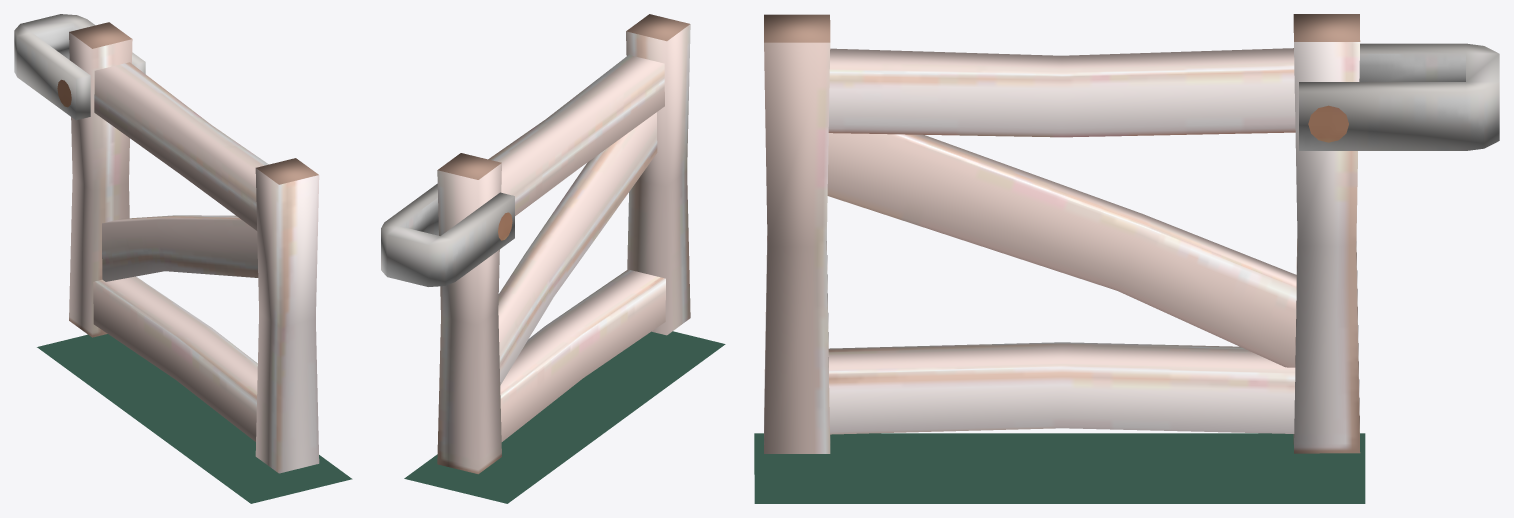
Rendered from FarmFenceGateTruck.fbx.
The picture shows the model from 3 angles, left to right: view 1: azimuth 30°, elevation 25°; view 2: azimuth 150°, elevation 25°; view 3: azimuth 270°, elevation 25°; orthographic projection. The views are drawn at different scales.
Parts seen in each view (by area): view 1: FarmFenceGate01, FarmFenceShadow; view 2: FarmFenceGate01, FarmFenceShadow; view 3: FarmFenceGate01, FarmFenceShadow.
Part boxes in pixels (x1=…): FarmFenceGate01: x1=14, y1=14, x2=319, y2=473; FarmFenceShadow: x1=37, y1=334, x2=352, y2=503; FarmFenceGate01: x1=381, y1=14, x2=690, y2=474; FarmFenceShadow: x1=404, y1=331, x2=725, y2=503; FarmFenceGate01: x1=764, y1=14, x2=1499, y2=453; FarmFenceShadow: x1=754, y1=433, x2=1365, y2=503.
Bounding box in the file's own units: 0.401 × 1.17 × 1.79.
